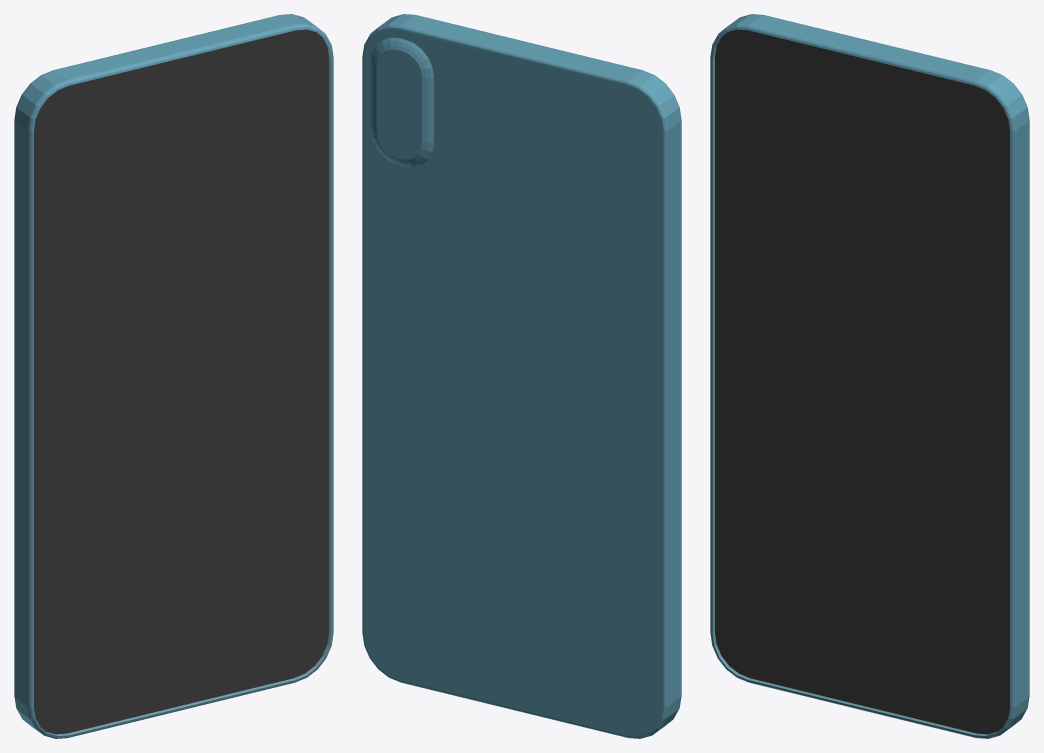
File: phone.glb
3 renders of one model, left to right at view 1: azimuth 30°, elevation 25°; view 2: azimuth 150°, elevation 25°; view 3: azimuth 330°, elevation 25°, orthographic.
Visible parts, largest first — view 1: Body, Screen; view 2: Body, Camera; view 3: Body, Screen.
Part boxes in pixels (x1,y1,x2,y2): Body: (14, 14, 333, 738); Screen: (34, 30, 330, 735); Body: (362, 14, 681, 738); Camera: (370, 37, 433, 167); Body: (710, 14, 1029, 738); Screen: (713, 30, 1009, 735).
Bounding box in the file's own units: 0.0781 × 0.1608 × 0.00936.
